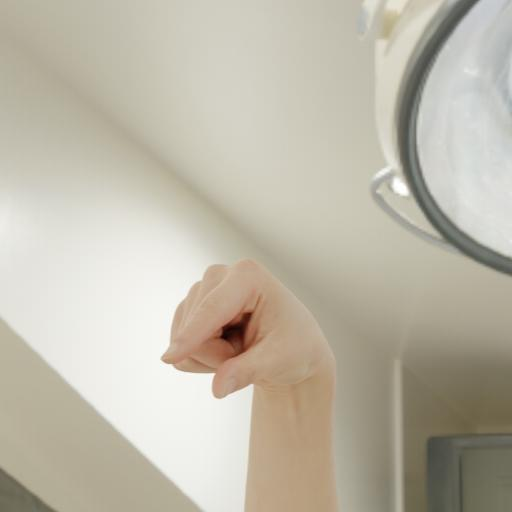Q: (154, 253, 340, 404)
